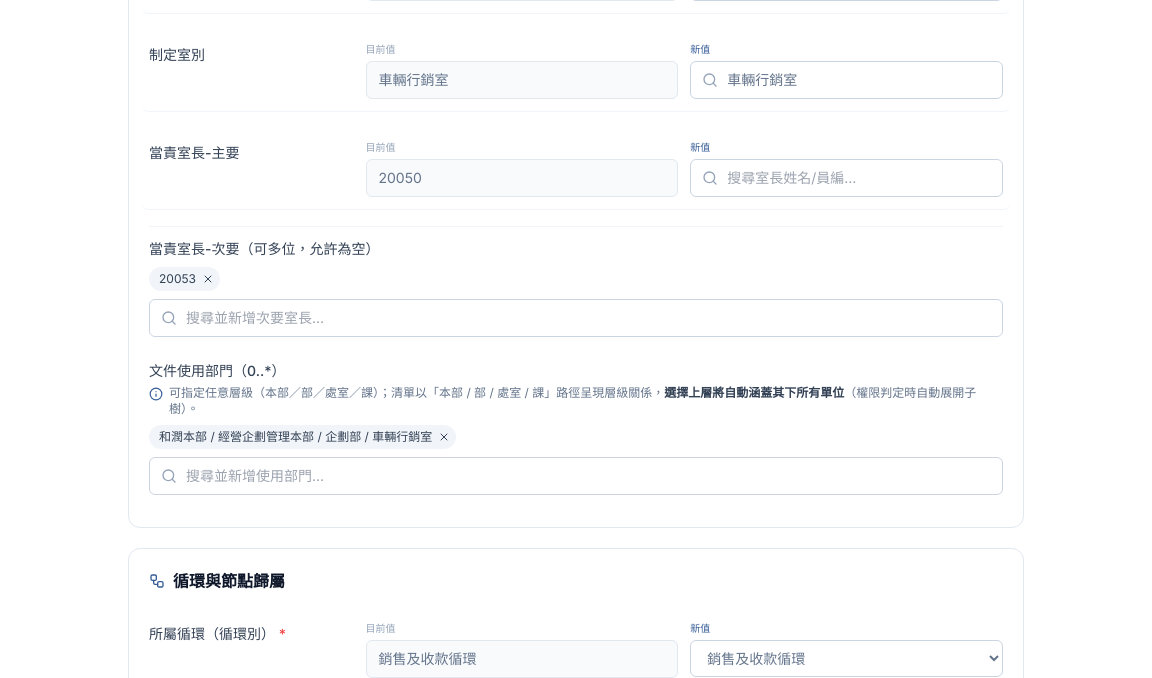
Test: DocumentEditPage — F011 編輯與版本對照（移植 prototype 15） › F014 次要室長／使用部門可編輯（prototype 15 secChips/useChips） › TS-D-001 ICSOPAdmin 可透過可搜尋下拉新增次要室長，並顯示「已變更」
(page scrolled)
Step 1. Type "林" into the dropdown named "當責室長-次要（可多位，允許為空）" → (576, 318), box x1=149 y1=299 x2=1003 y2=337
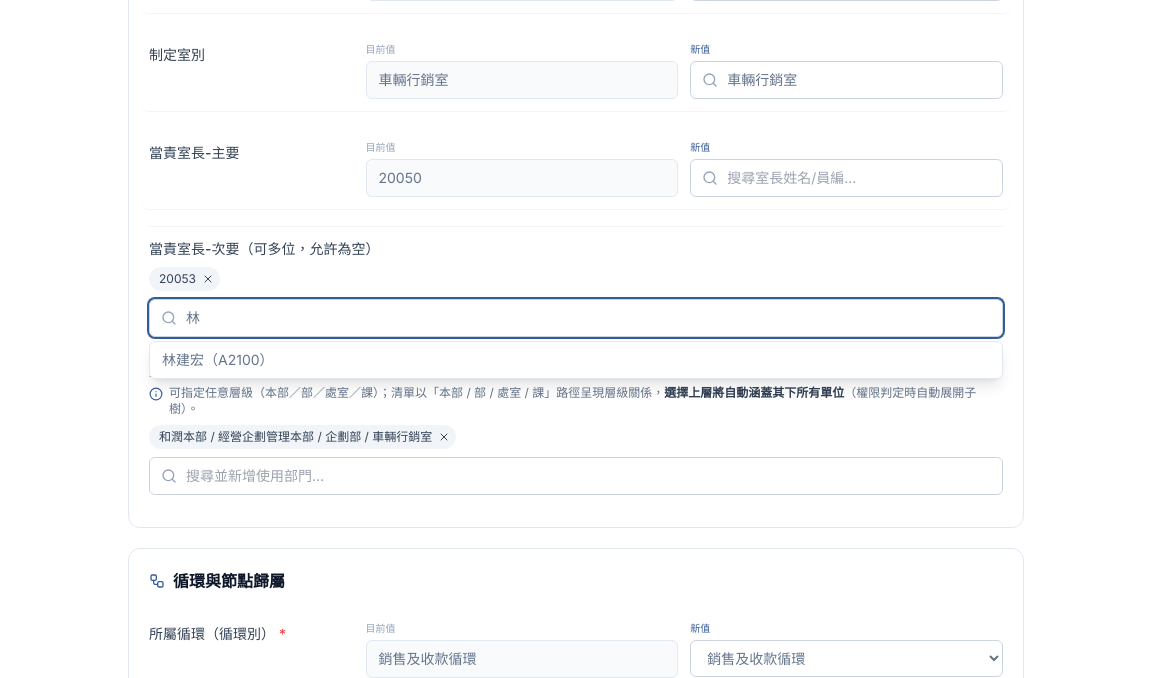
Step 2. Click the option "林建宏（A2100）" → (218, 360), box x1=150 y1=342 x2=1002 y2=378
(page scrolled)
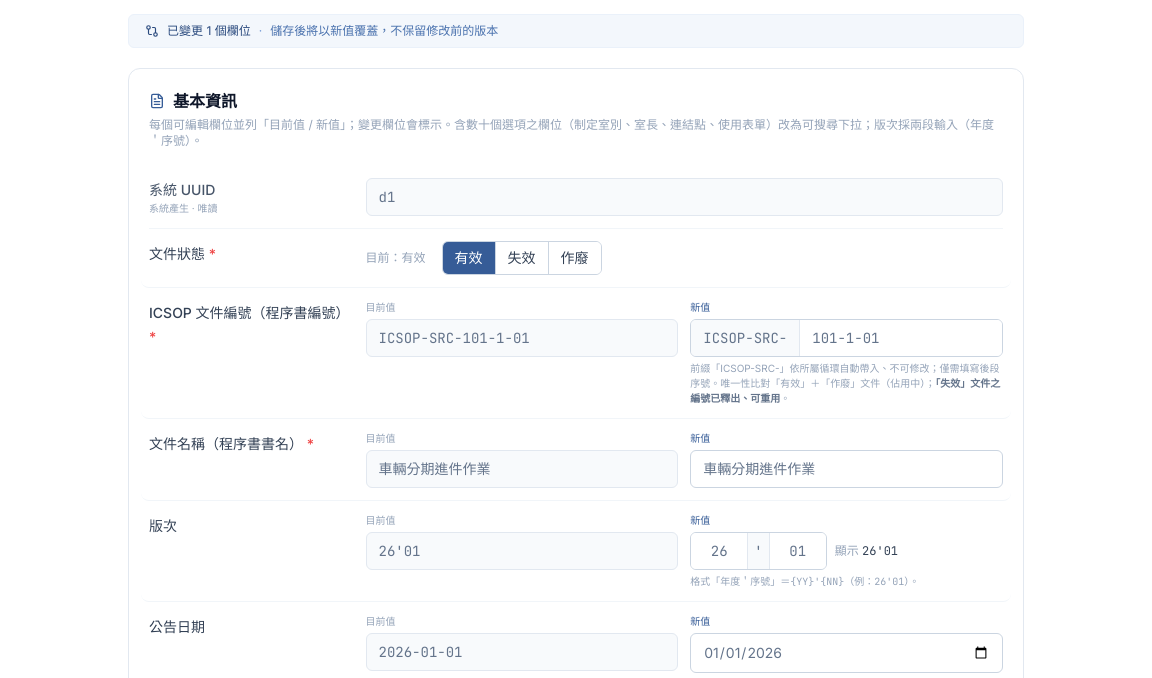
Expected: the text "已變更 1 個欄位" is shown, x1=167 y1=23 x2=251 y2=39
